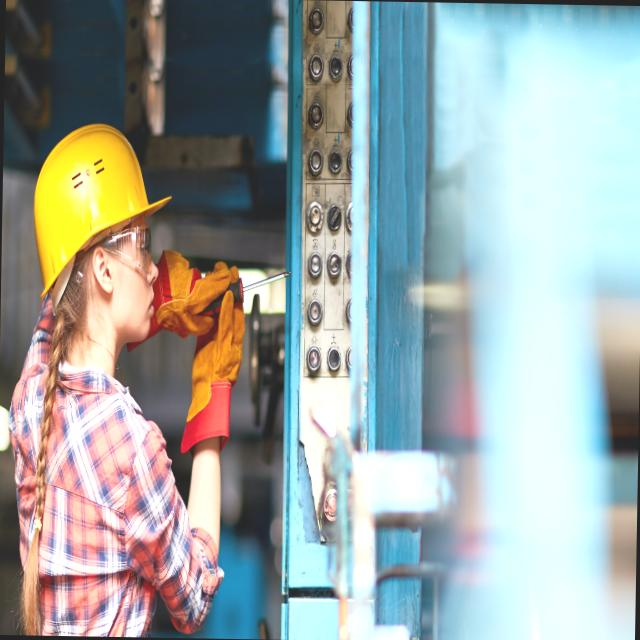goggles: (93, 216, 159, 284)
helmet: (26, 111, 176, 327)
no-vest: (7, 340, 182, 638)
